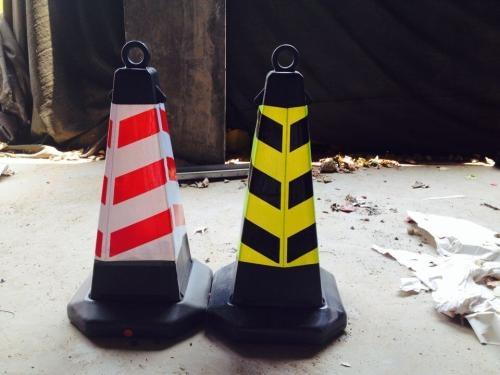cone_barrel: (66, 34, 208, 342), (217, 46, 346, 343)
